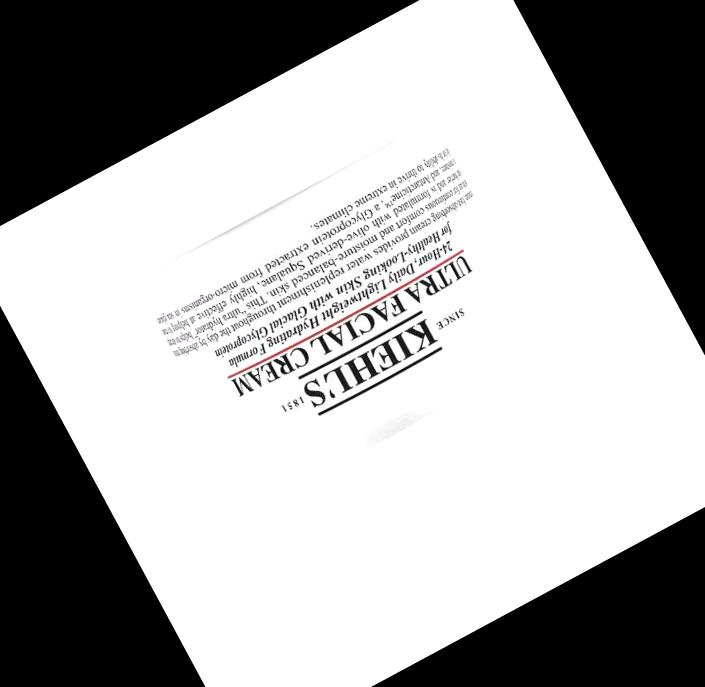cosmetic: (130, 113, 579, 537)
